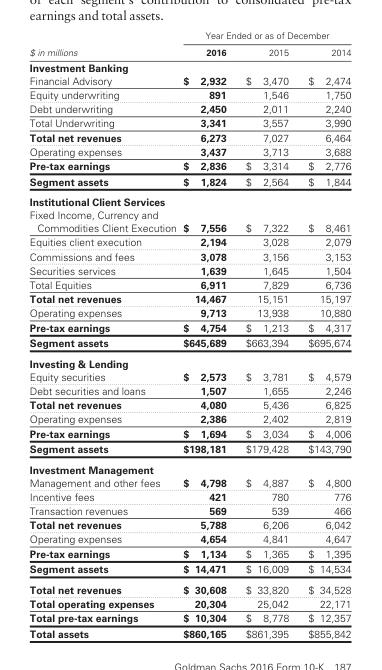table: (28, 29, 350, 639)
table column: (28, 29, 179, 639), (235, 29, 297, 639), (179, 29, 235, 639), (297, 29, 350, 639)
table column header: (28, 29, 350, 59)
table projected row header: (28, 191, 350, 208), (28, 352, 350, 369), (28, 458, 350, 475), (28, 59, 350, 73)
table row: (28, 208, 350, 234), (28, 173, 350, 191), (28, 334, 350, 352), (28, 440, 350, 458), (28, 560, 350, 578), (28, 578, 350, 596), (28, 191, 350, 208), (28, 352, 350, 369), (28, 458, 350, 475), (28, 43, 350, 59), (28, 129, 350, 144), (28, 158, 350, 173), (28, 248, 350, 263), (28, 319, 350, 334), (28, 425, 350, 440), (28, 545, 350, 560), (28, 610, 350, 625), (28, 29, 350, 43), (28, 59, 350, 73), (28, 73, 350, 87), (28, 87, 350, 101), (28, 101, 350, 115), (28, 115, 350, 129), (28, 144, 350, 158), (28, 234, 350, 248), (28, 263, 350, 277), (28, 277, 350, 291), (28, 291, 350, 305), (28, 305, 350, 319), (28, 369, 350, 383), (28, 383, 350, 397), (28, 397, 350, 411), (28, 411, 350, 425), (28, 475, 350, 489), (28, 489, 350, 503), (28, 503, 350, 517), (28, 517, 350, 531), (28, 531, 350, 545), (28, 596, 350, 610), (28, 625, 350, 639)
table spanning cell: (28, 29, 179, 59), (179, 29, 350, 43)
